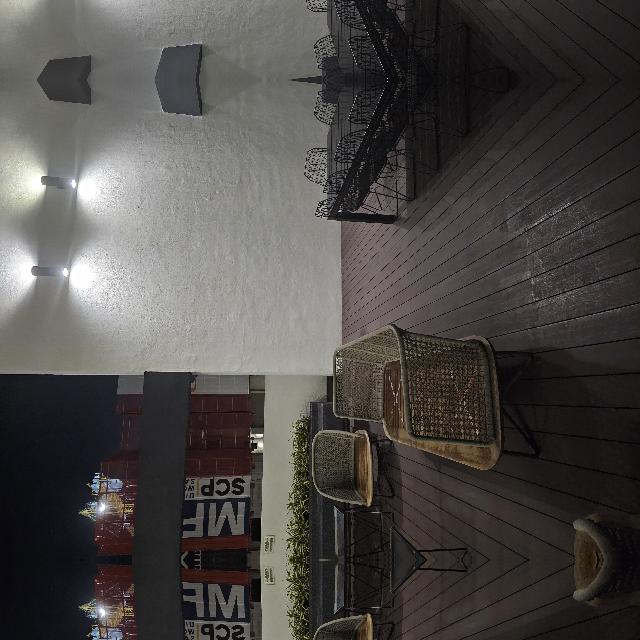obstacle: (88, 410, 238, 622), (318, 380, 480, 522), (88, 498, 238, 640), (0, 348, 134, 460), (318, 598, 480, 640), (0, 401, 50, 469)
